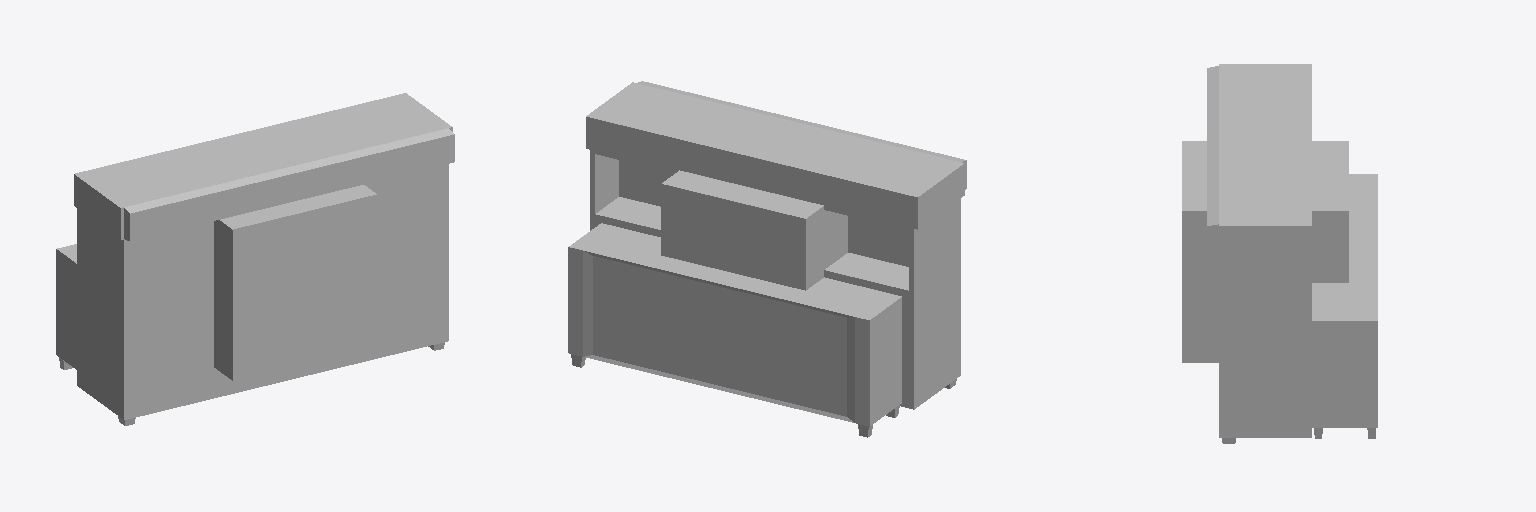
Rendered from bar.obj.
3 views of the same model, side by side, from view 1: azimuth 30°, elevation 25°; view 2: azimuth 150°, elevation 25°; view 3: azimuth 270°, elevation 25° (orthographic).
Parts seen in each view (by area): view 1: Cube.001, Cube; view 2: Cube.001, Cube; view 3: Cube.001, Cube.
Boxes of the visible parts, x1,y1,x2,y2 form: Cube.001: [56, 93, 454, 425]; Cube: [214, 185, 376, 380]; Cube.001: [568, 81, 966, 437]; Cube: [661, 170, 847, 290]; Cube.001: [1207, 64, 1377, 443]; Cube: [1182, 141, 1348, 362].
Size of the model in its own units: 4.59 by 2.93 by 2.35.